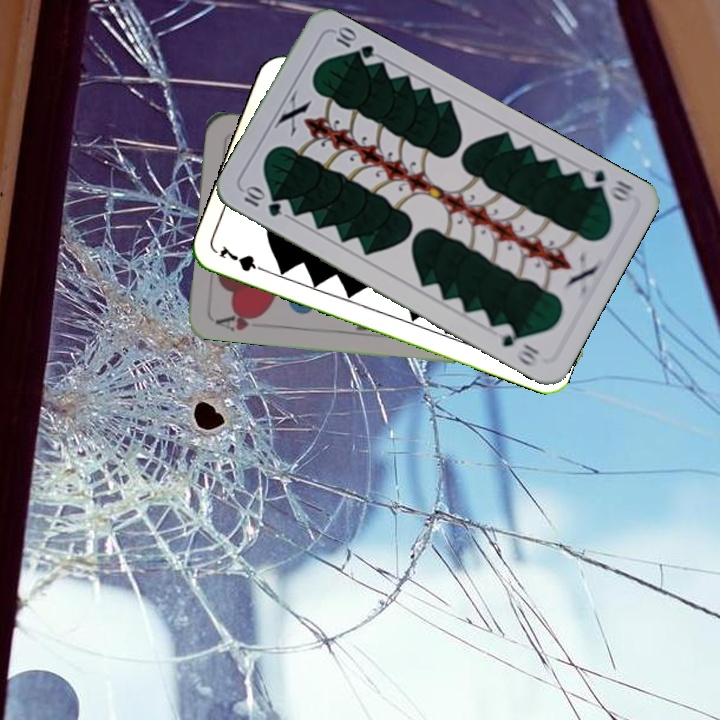G10: (577, 165, 636, 206), (240, 183, 285, 220)
G7: (214, 242, 272, 276)
HA: (211, 306, 268, 334)
